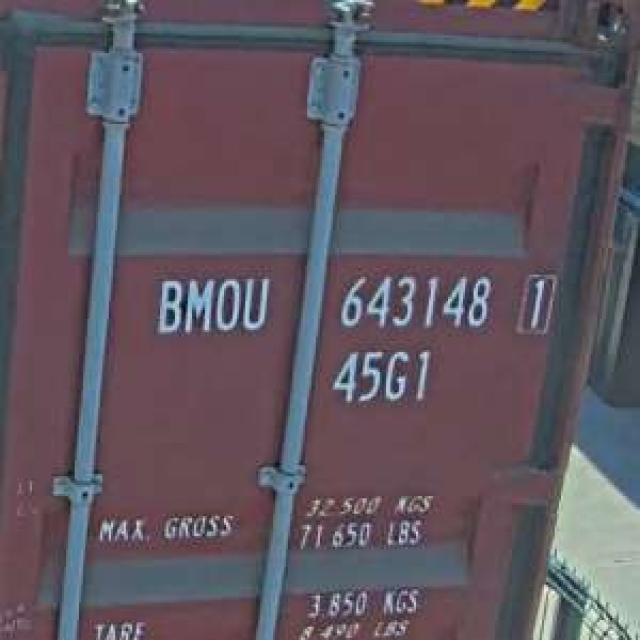dv: (514, 266, 559, 336)
owner: (152, 268, 273, 341)
serial: (331, 266, 495, 336)
size: (326, 343, 436, 410)
